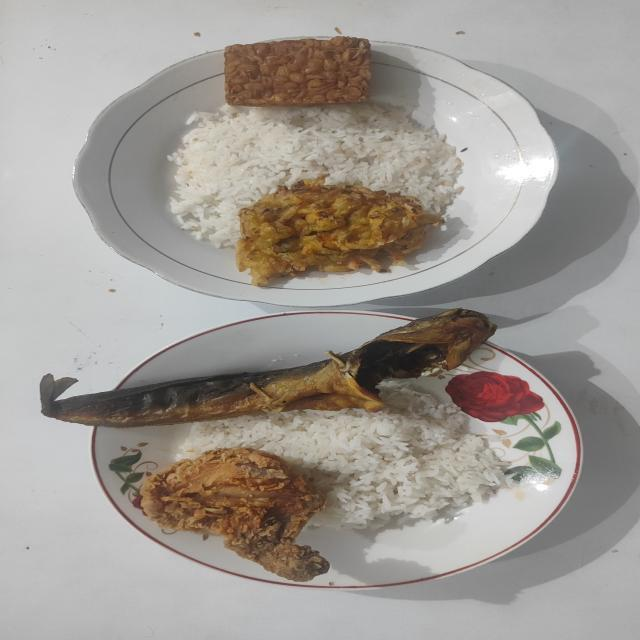nasi_putih: (180, 378, 508, 529), (170, 104, 463, 248)
tempe_goreng: (224, 36, 370, 106)
